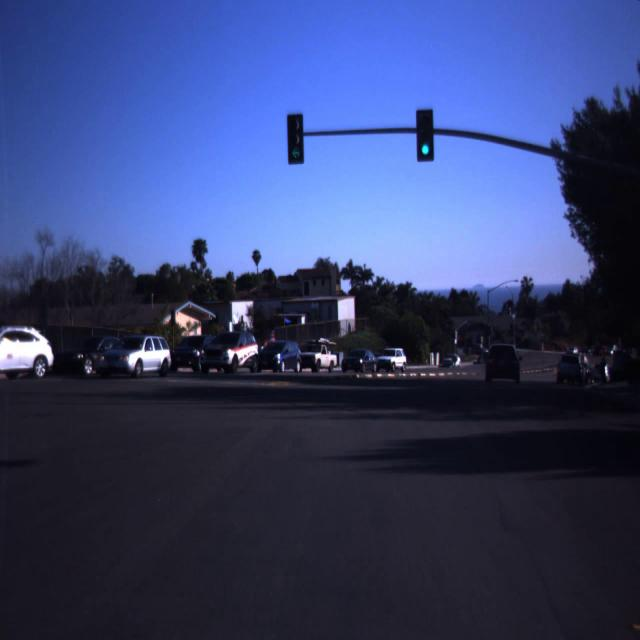yesil: (416, 110, 434, 162), (287, 114, 304, 164)
